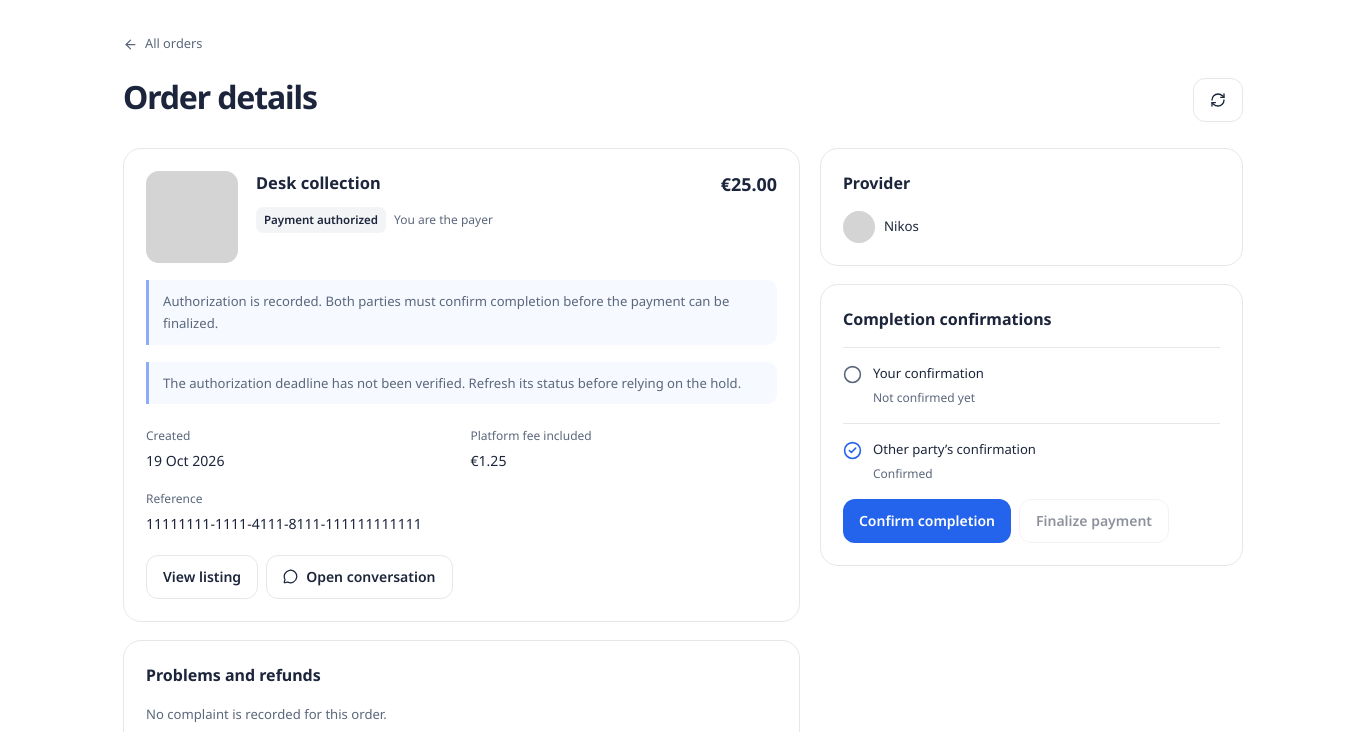
Test: Order details and real actions › keeps stale financial actions blocked after a failed Stripe refresh
Check: the heading "Desk collection" is shown, box [256,171,381,196]
Click the button named "Refresh orders".
click(1218, 100)  # box [1193,78,1243,122]
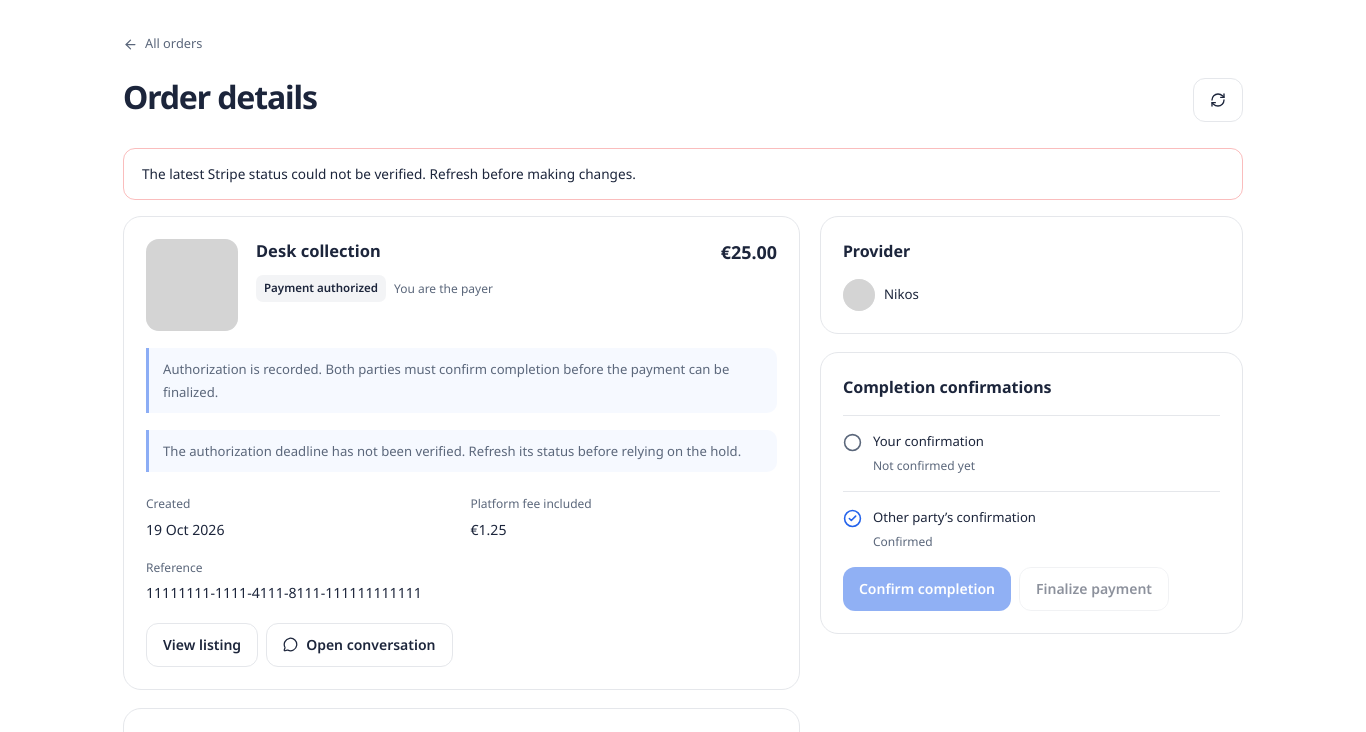
Check: the message shows "latest Stripe status could not be verified", box [142,164,636,183]
Check: the button "Confirm completion" is disabled, box [843,567,1011,611]
